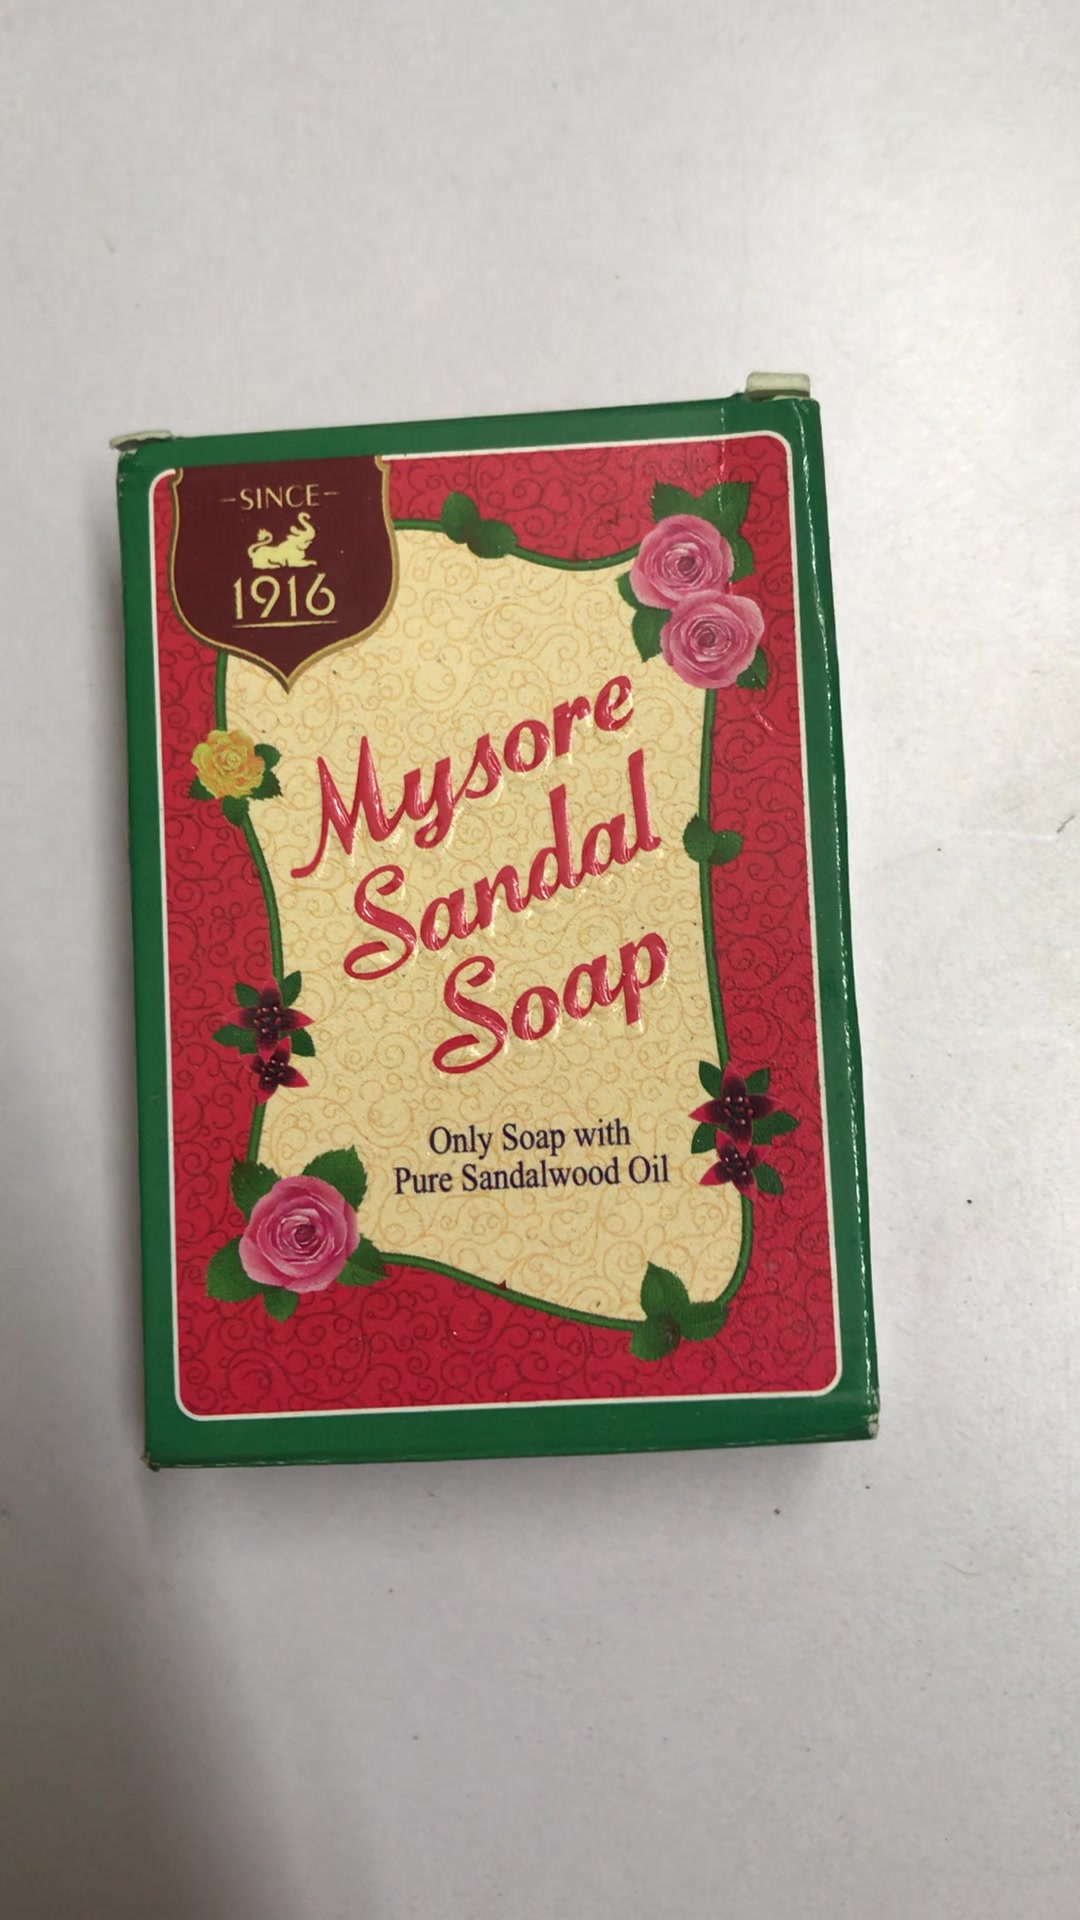mysore sandal soap: (117, 411, 868, 1466)
